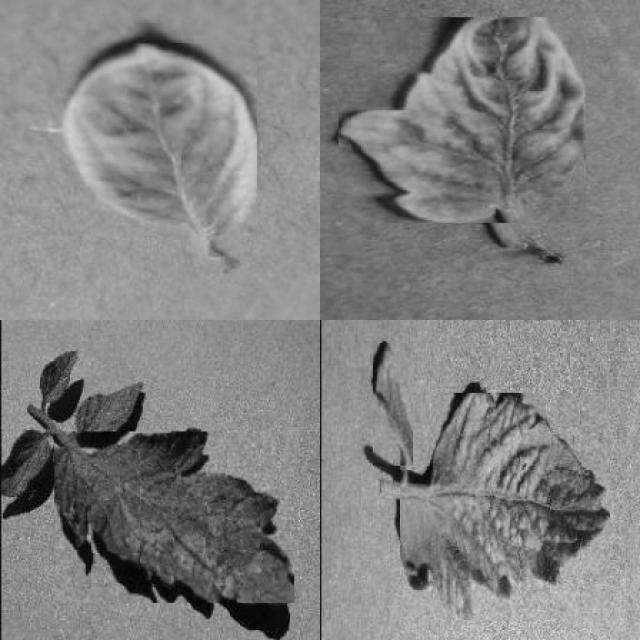Mosaic Virus: (400, 393, 610, 620), (374, 344, 414, 466)
Septoria: (55, 431, 295, 603)
Yellow Leaf Curl Virus: (338, 17, 586, 223), (63, 43, 257, 236)
